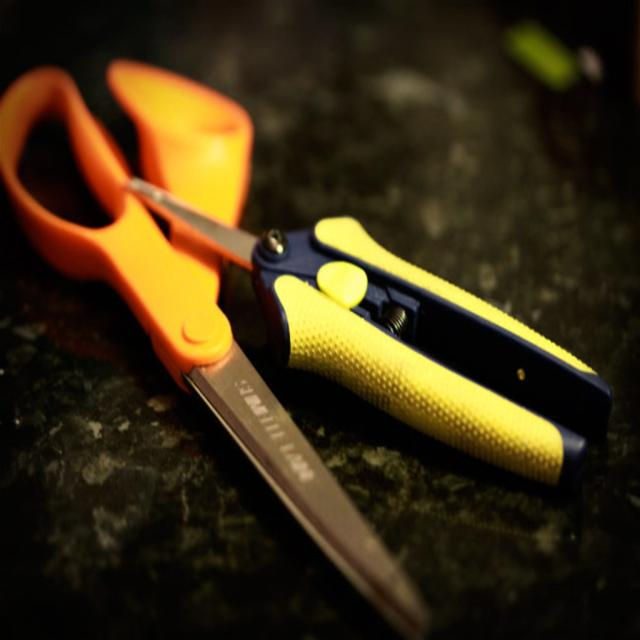scissors: (6, 52, 436, 635)
